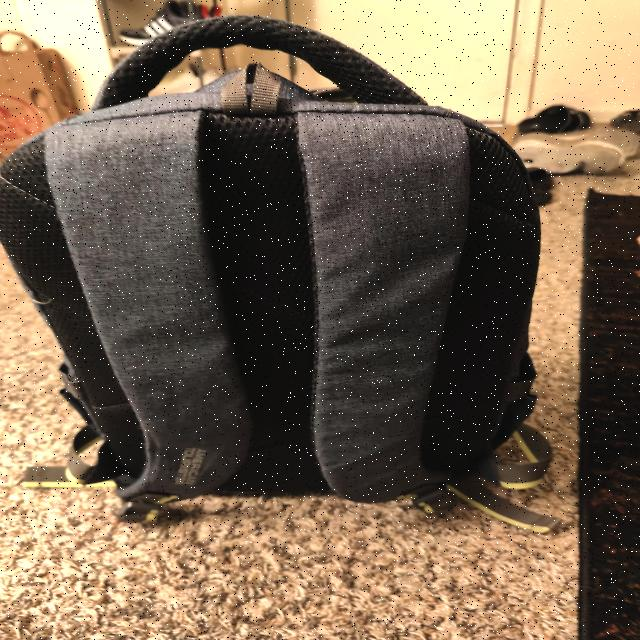bag: (0, 23, 532, 499)
